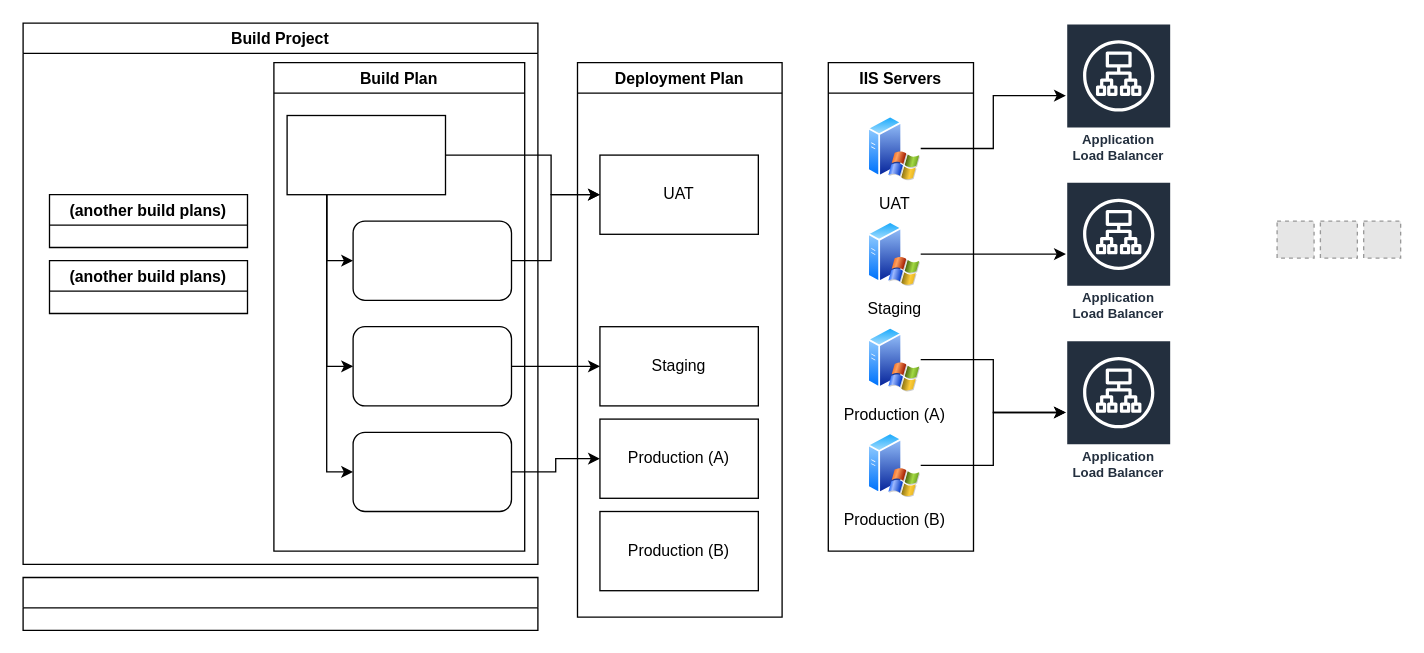
The diagram is 1424 pixels wide and 653 high, and some of its shapes have lost their labels. Grey dashed boxes stand in for pictures. The shapes that lost their labels are listed below. From the top down, each one's centre as x and y in pixels, then its label:
point (366, 154): Plan (develop)
point (432, 260): Branch (feature/*)
point (432, 365): Branch (staging)
point (432, 471): Branch (master)
point (280, 603): (another build project)
